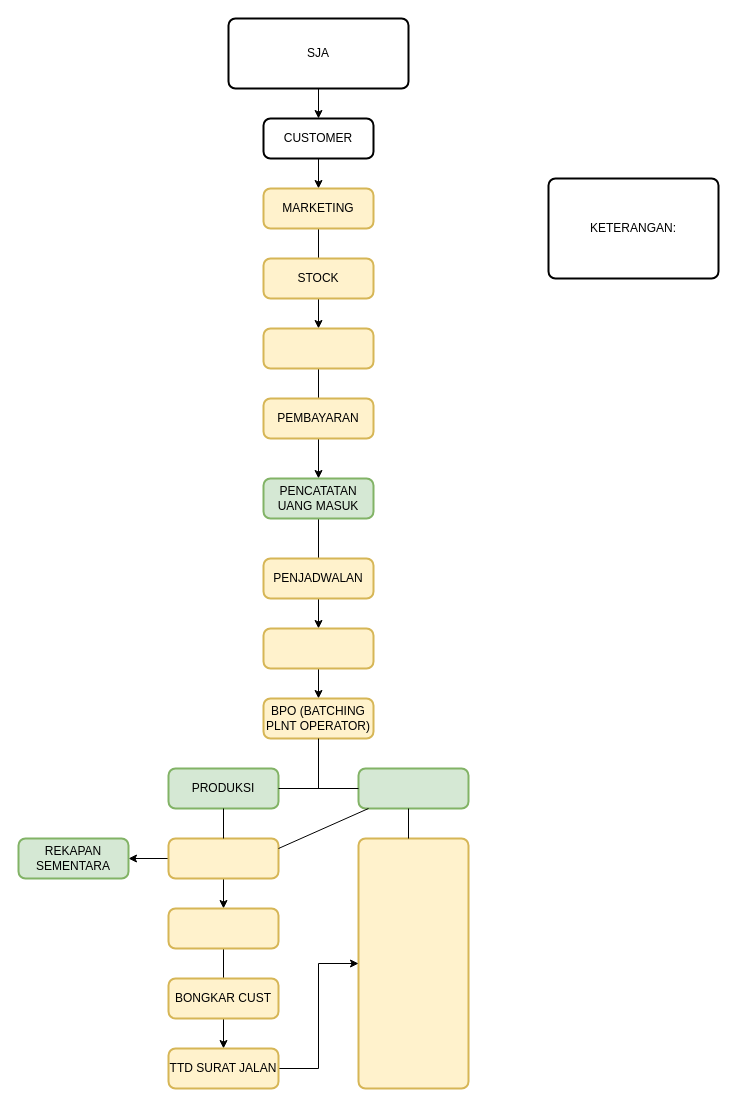
Image size: 736x1106. Some labels were removed from this diagram. Each missing label, with the centre of its shape:
DELIVERY: pixel 223 928
DISPATCHER/ PENGIRIMAN: pixel 223 858
MEMO: pixel 318 648
PEMBUATAN PO: pixel 318 348
PEREKAPAN SURAT JALAN: pixel 413 963
SURAT JALAN: pixel 413 788
